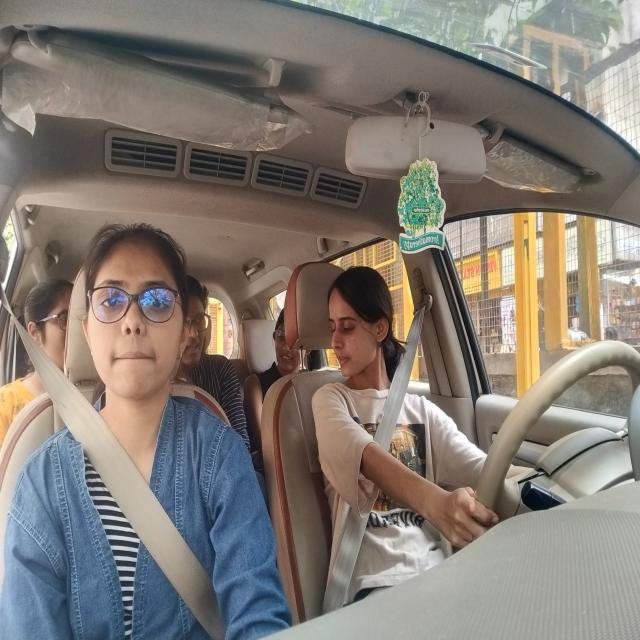drowsy: (327, 262, 398, 391)
person: (84, 222, 198, 404), (23, 277, 72, 380), (184, 274, 217, 369), (272, 303, 297, 377)
